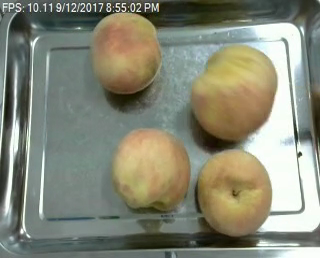Peach: (190, 42, 277, 142), (197, 148, 273, 237), (111, 126, 190, 211), (90, 11, 162, 94)
